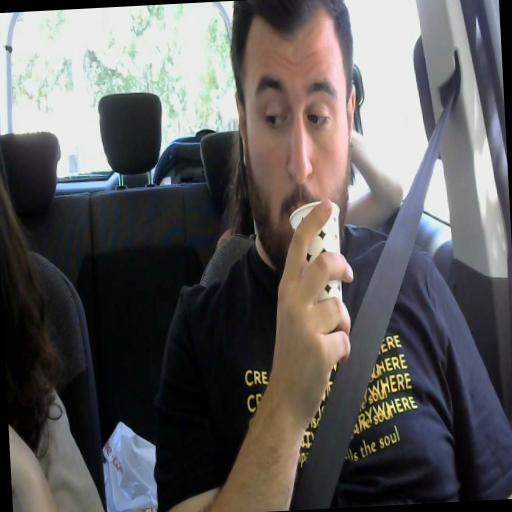Drinking: (236, 17, 354, 359)
